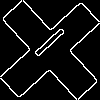I: (25, 25, 68, 66)
